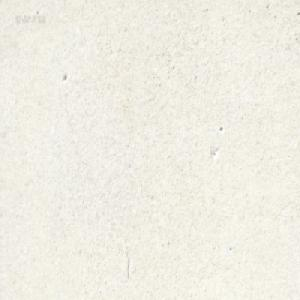Wrench: (120, 0, 126, 4)
